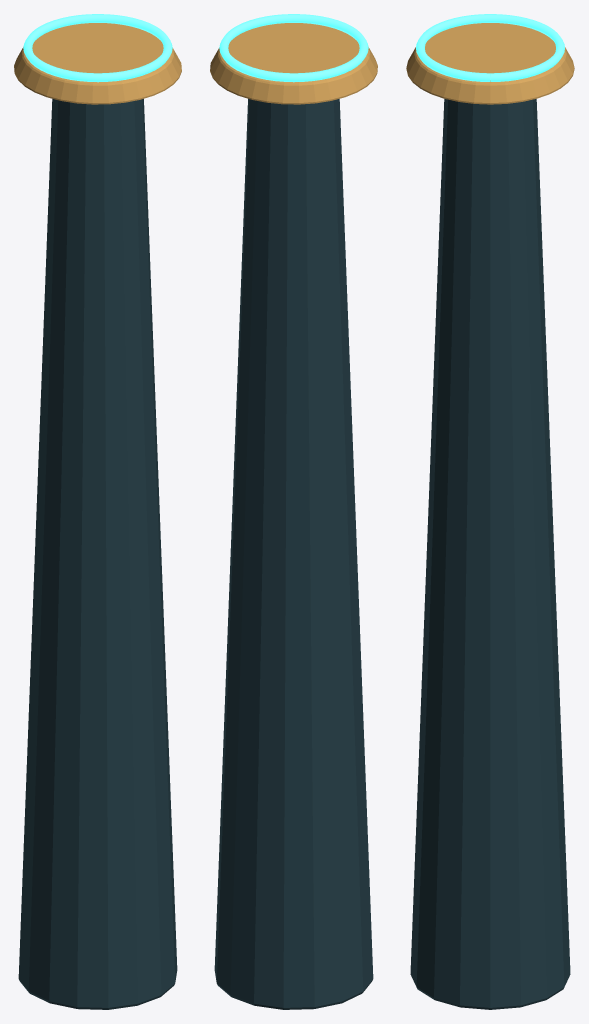
Rendered from catapult_base.glb.
The picture shows the model from 3 angles, left to right: view 1: azimuth 30°, elevation 25°; view 2: azimuth 150°, elevation 25°; view 3: azimuth 270°, elevation 25°; orthographic projection.
Parts seen in each view (by area): view 1: catapult_base.001; view 2: catapult_base.001; view 3: catapult_base.001.
Boxes of the visible parts, bbox=[...] form: catapult_base.001: bbox=[14, 14, 181, 1009]; catapult_base.001: bbox=[210, 14, 377, 1009]; catapult_base.001: bbox=[406, 14, 574, 1009].
Size of the model in its own units: 0.6715 by 4.11 by 0.6715.
